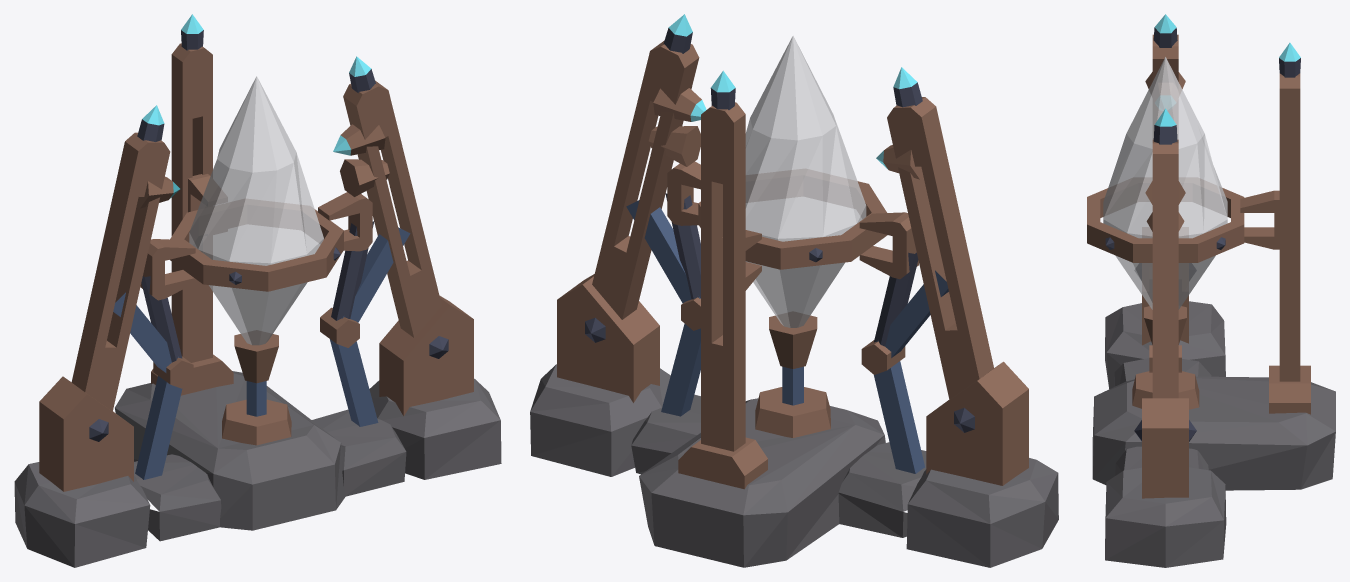
File: beam-prism-8a841c.glb
3 views of the same model, side by side, from view 1: azimuth 30°, elevation 25°; view 2: azimuth 150°, elevation 25°; view 3: azimuth 270°, elevation 25° (orthographic). The views are drawn at different scales.
Visible parts, largest first — view 1: frame-metal, frame-matte, crystal-crystal, collar-metal, frame-crystal; view 2: frame-metal, frame-matte, crystal-crystal, collar-metal, frame-crystal; view 3: frame-matte, frame-metal, crystal-crystal, collar-metal, frame-crystal.
Boxes of the visible parts, bbox=[...] form: frame-metal: bbox=[39, 30, 473, 491]; frame-matte: bbox=[14, 227, 501, 567]; crystal-crystal: bbox=[189, 76, 323, 345]; collar-metal: bbox=[170, 199, 343, 291]; frame-crystal: bbox=[142, 14, 371, 198]; frame-metal: bbox=[557, 28, 1028, 489]; frame-matte: bbox=[530, 200, 1058, 567]; crystal-crystal: bbox=[745, 35, 866, 327]; collar-metal: bbox=[698, 169, 887, 269]; frame-crystal: bbox=[668, 14, 917, 169]; frame-matte: bbox=[1092, 301, 1335, 567]; frame-metal: bbox=[1132, 27, 1310, 498]; crystal-crystal: bbox=[1103, 57, 1227, 309]; collar-metal: bbox=[1087, 178, 1244, 262]; frame-crystal: bbox=[1154, 14, 1300, 126].
Bounding box in the file's own units: 0.3963 × 0.352 × 0.1903.
